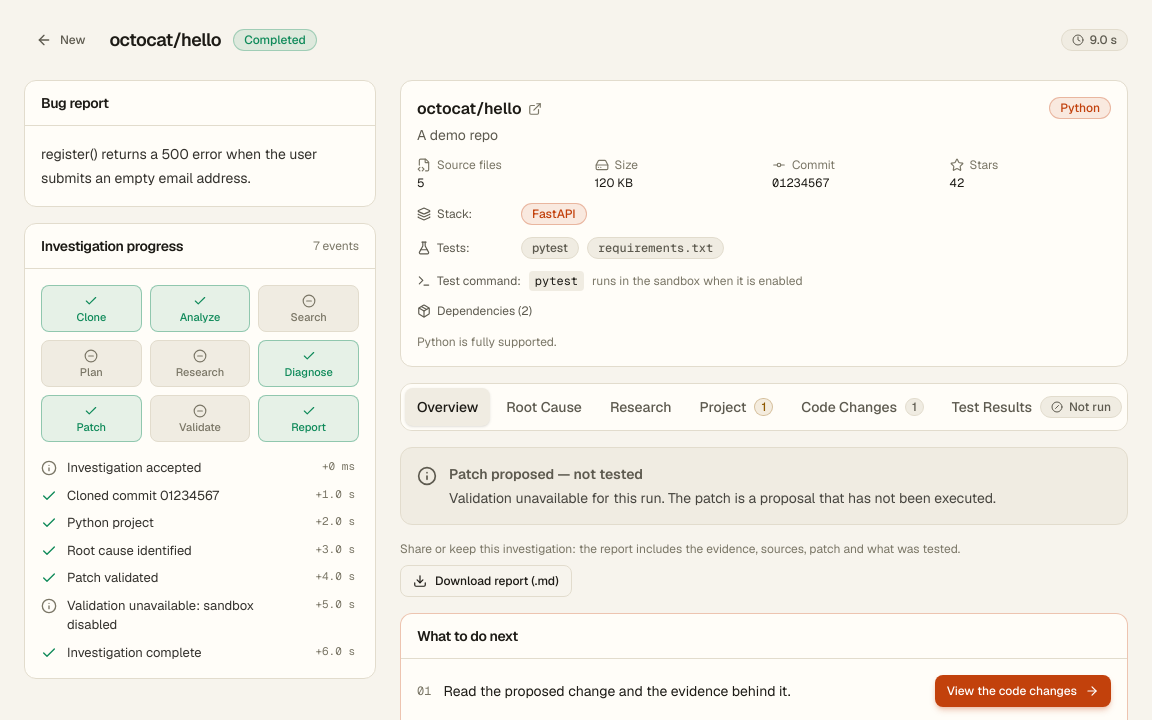
Test: InvestigationView states › Root Cause tab flags evidence that was not found in the repo
The width and height of the screenshot is (1152, 720).
Click the tab "Root Cause": (544, 407) [494,388,594,426]
(page scrolled)
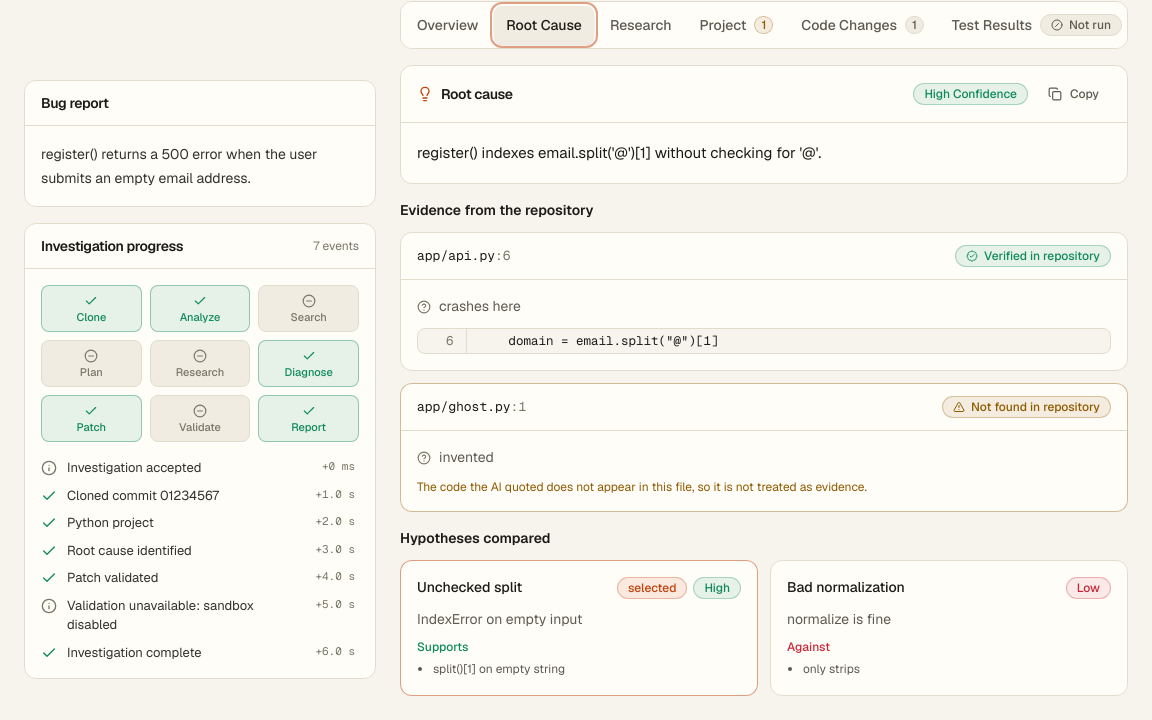
expect the text "Verified in repository" is shown: met, box [955,245,1111,267]
expect the text "Not found in repository" is shown: met, box [942,396,1111,418]
expect the text "does not appear in this file" is shown: met, box [417,479,867,495]
